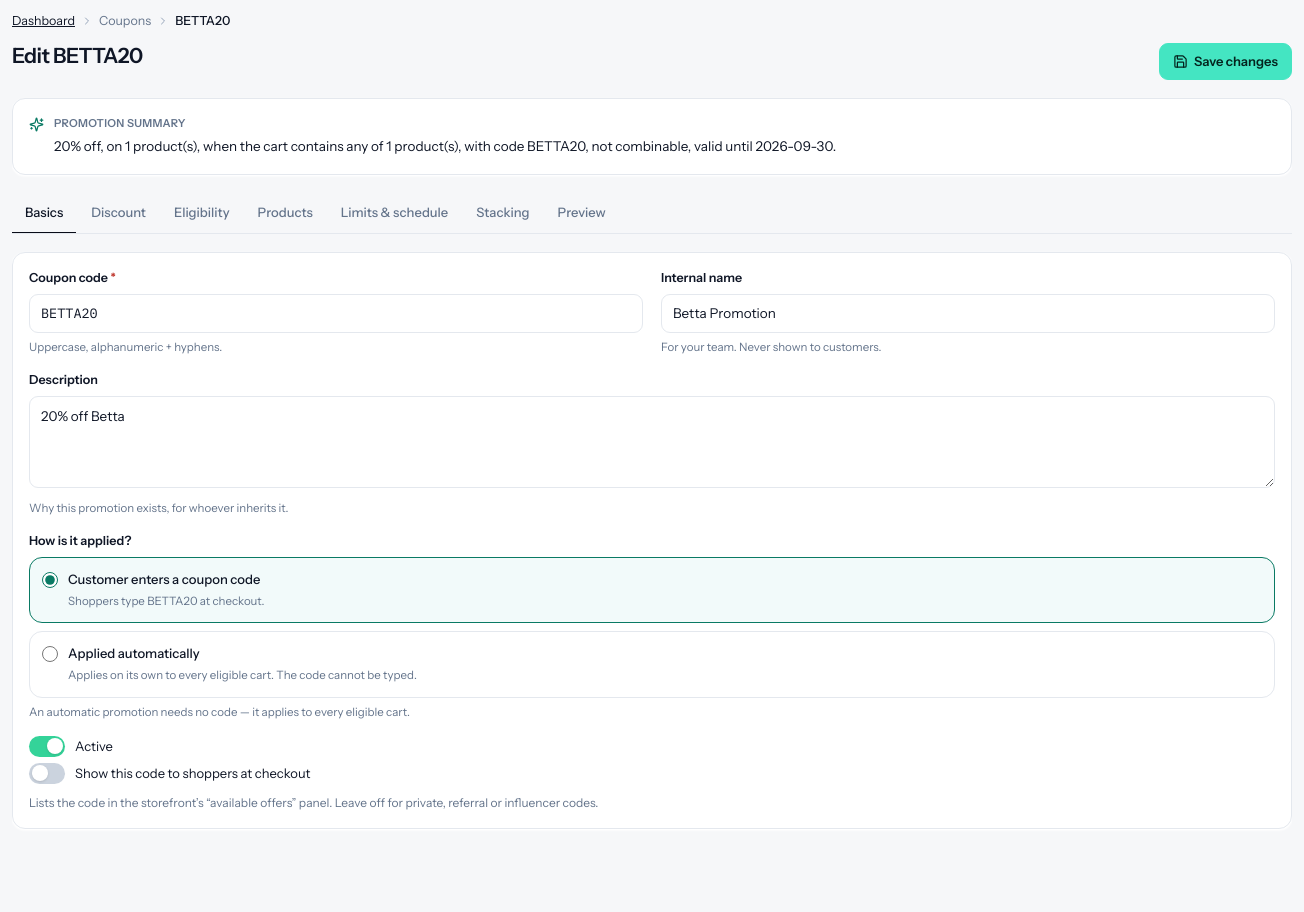
it: CouponEditor UX - Product Scope & Targeting › preserves product selections when toggling between scopes
# Switch to Products tab
Click the button "Products".
click(285, 213)  # box left=245, top=193, right=326, bottom=234
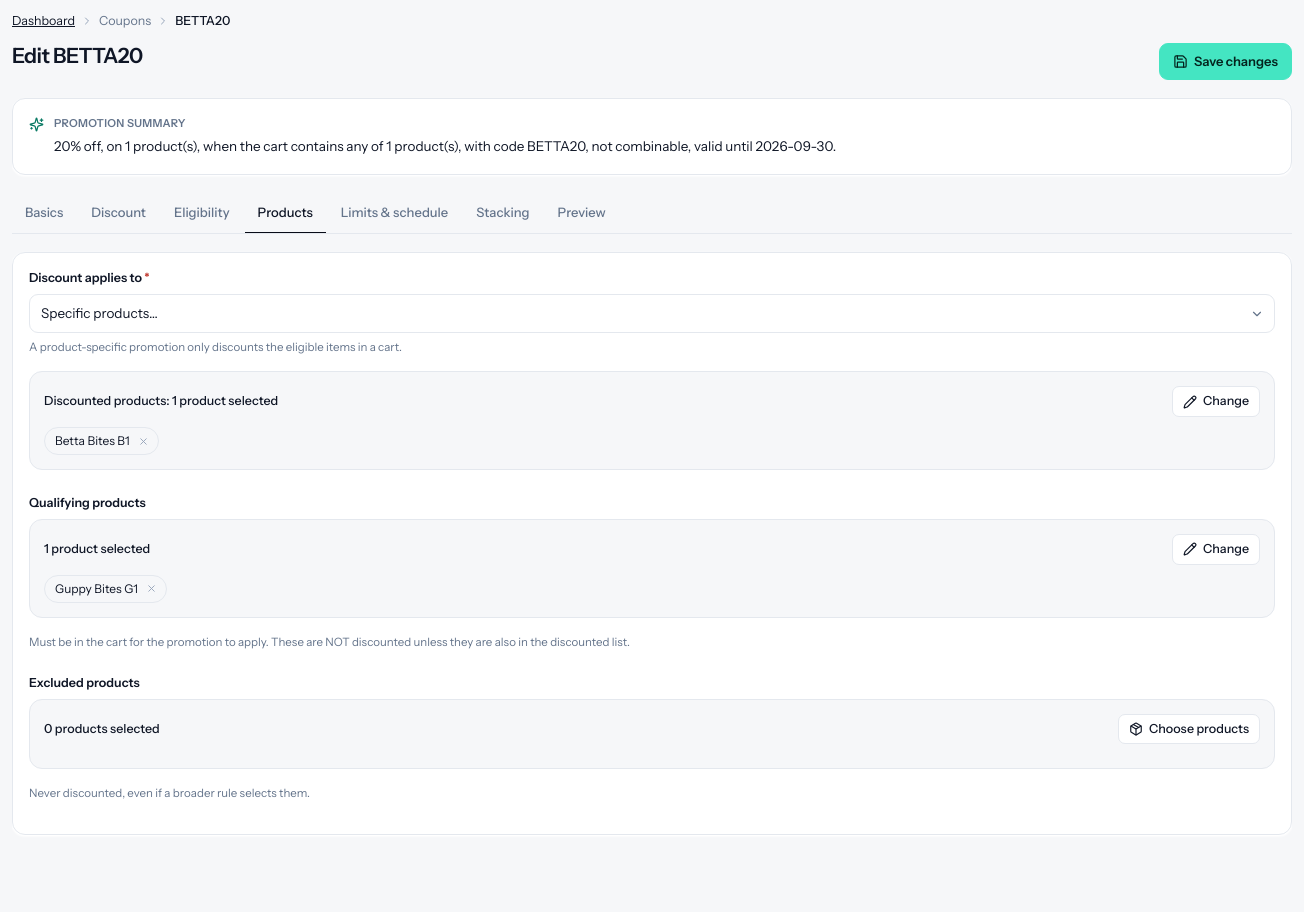
expect the text "Betta Bites B1" is shown: met, box left=44, top=427, right=159, bottom=455
expect the text "Guppy Bites G1" is shown: met, box left=44, top=575, right=167, bottom=603
# Toggle to All products
Select "All products" in the dropdown labelled "Discount applies to *" at (652, 314), box left=29, top=294, right=1275, bottom=333
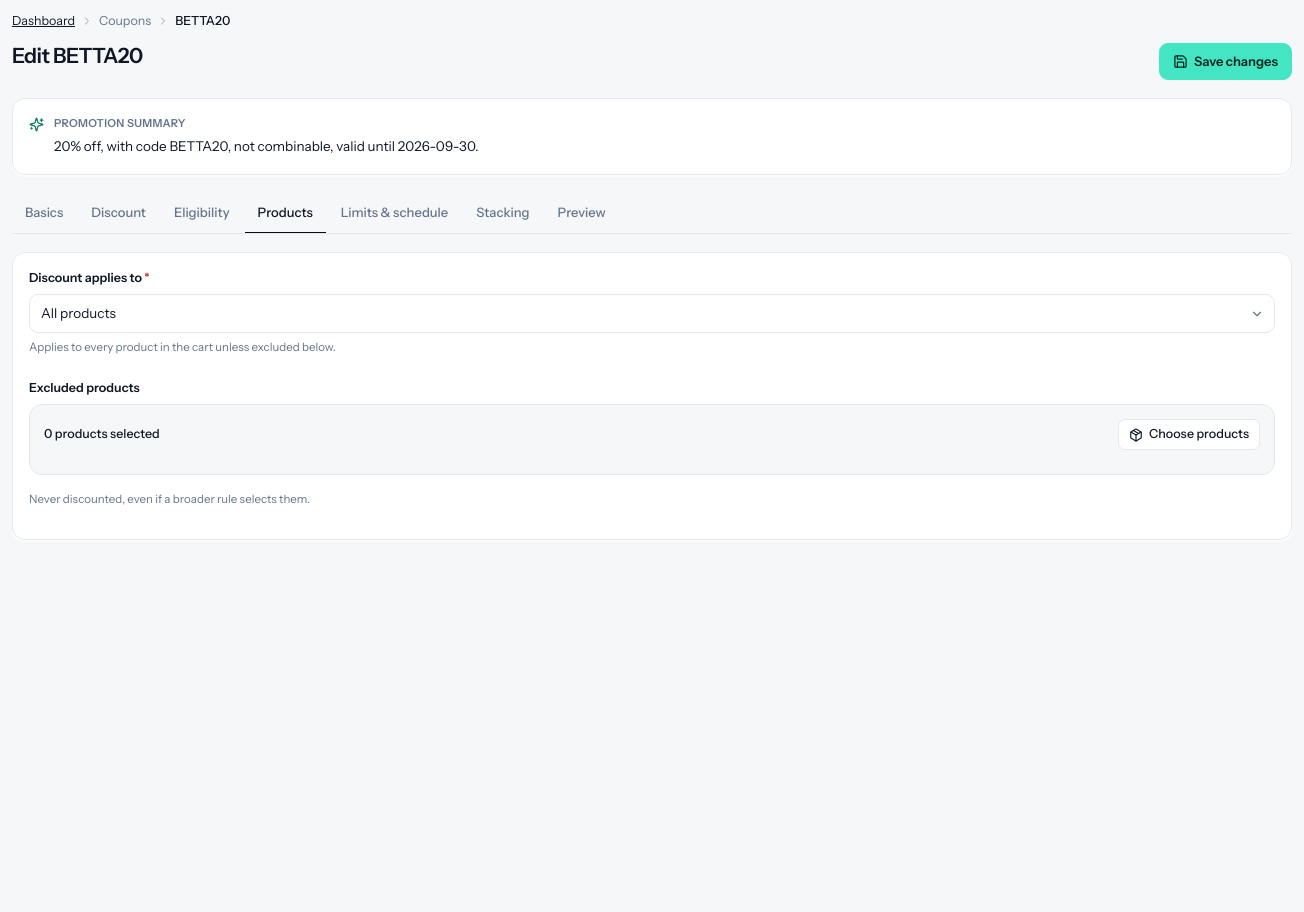
expect the text "Discounted products" is gone: met
expect the text "Qualifying products" is gone: met
# Toggle back to Specific products
Select "Specific products…" in the dropdown labelled "Discount applies to *" at (652, 314), box left=29, top=294, right=1275, bottom=333
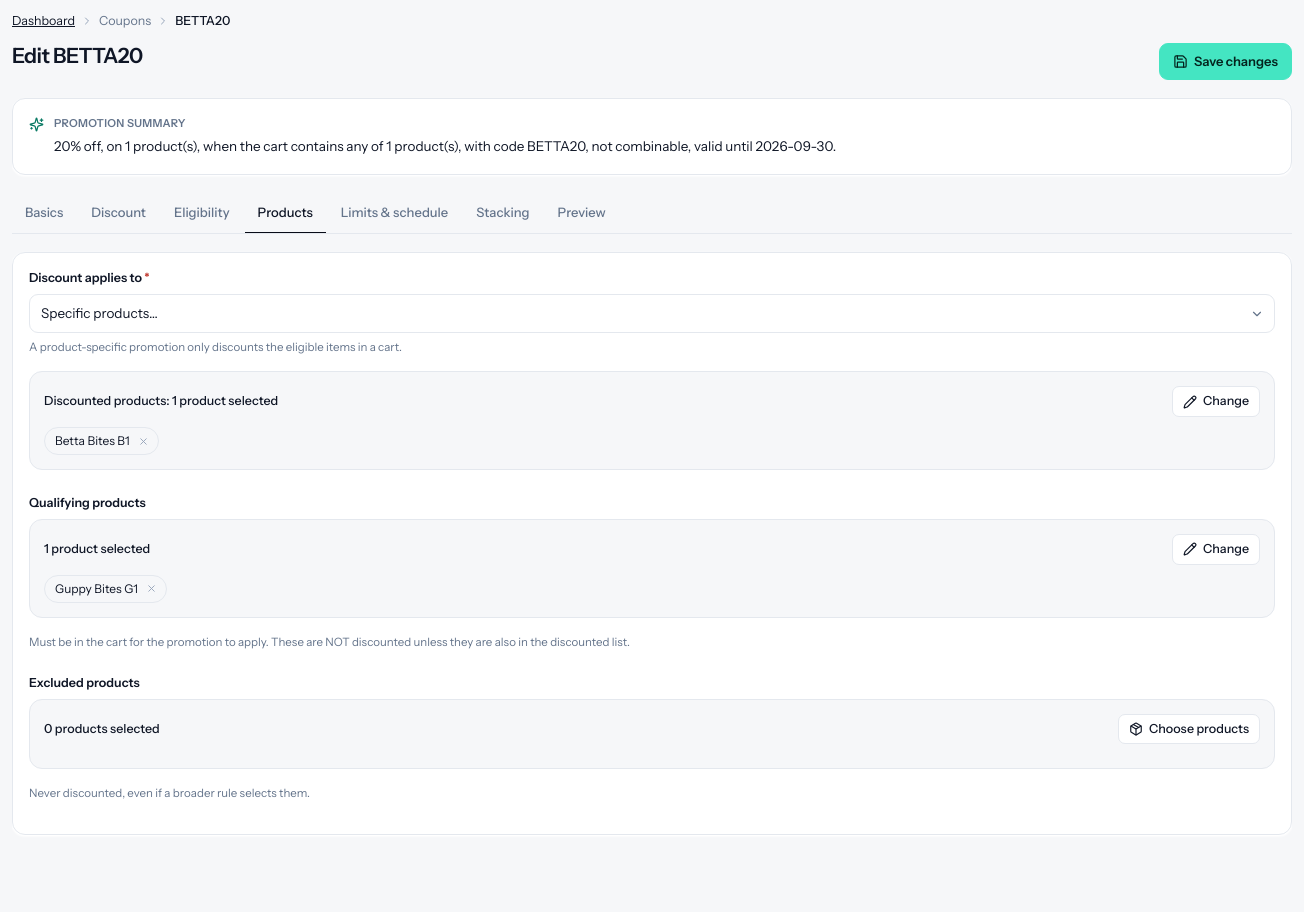
expect the text "Betta Bites B1" is shown: met, box left=44, top=427, right=159, bottom=455
expect the text "Guppy Bites G1" is shown: met, box left=44, top=575, right=167, bottom=603
